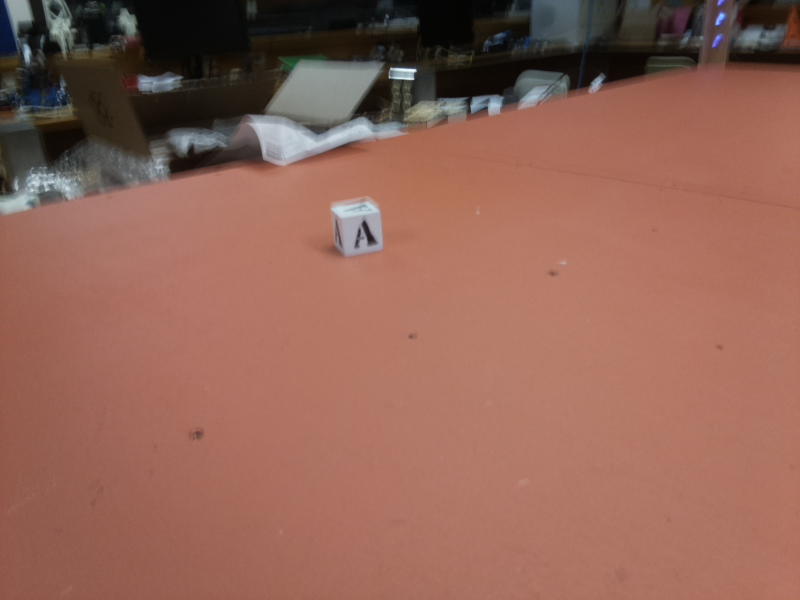blockA: (328, 197, 383, 257)
corner: (696, 1, 734, 68)
